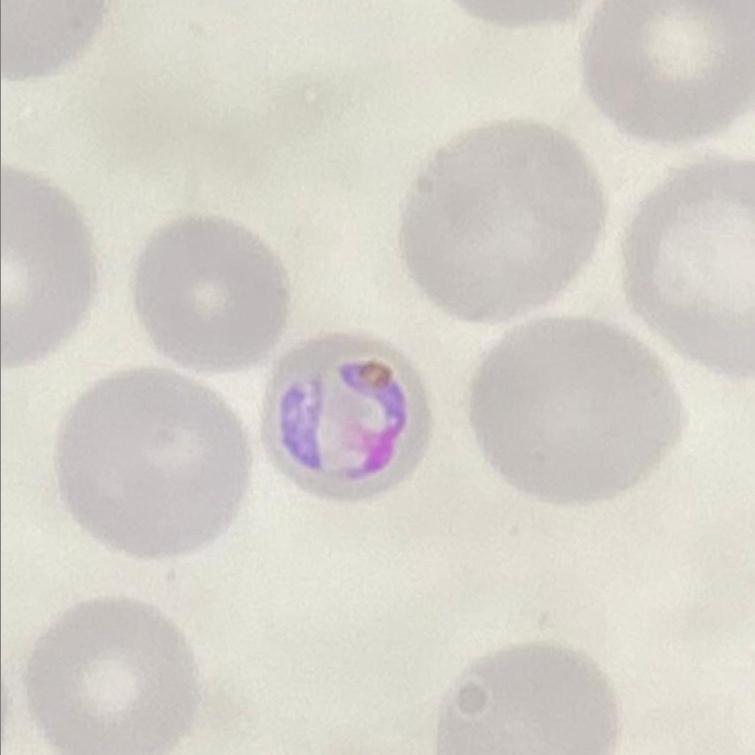Infected: (259, 333, 429, 502)
Uninfected: (399, 122, 611, 320), (471, 319, 679, 504), (59, 369, 251, 563), (623, 159, 755, 372), (29, 597, 198, 755), (590, 0, 755, 144), (136, 219, 285, 371), (441, 642, 618, 755), (0, 170, 99, 368)
